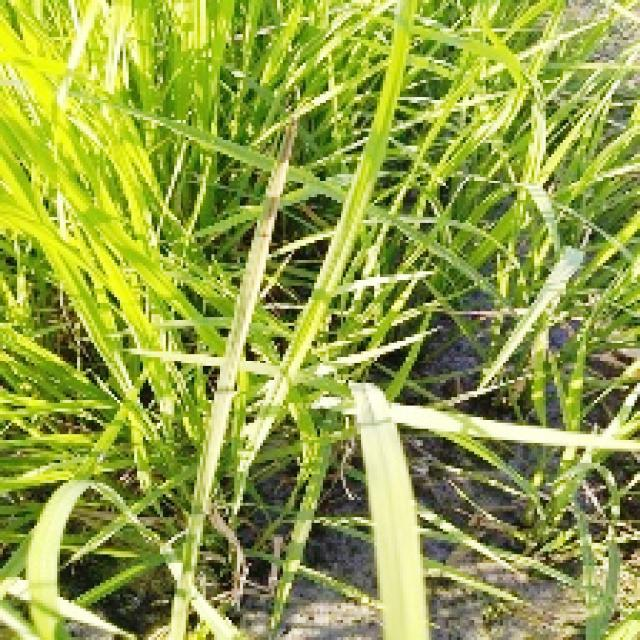-: (0, 0, 219, 357)
